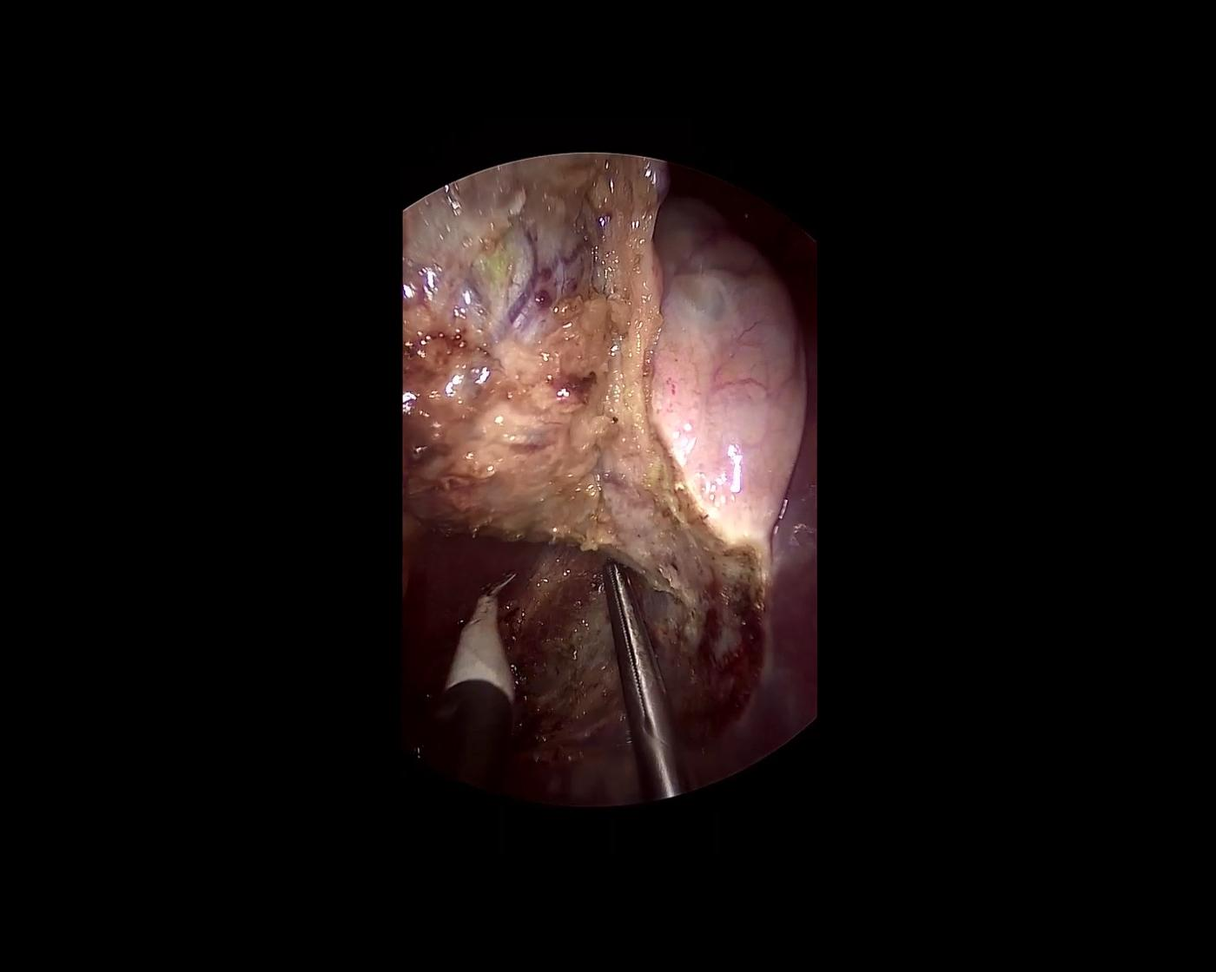Cautery: (427, 568, 518, 804)
Forceps: (592, 558, 682, 806)
Gallbladder: (403, 157, 805, 579)
Liver: (730, 404, 864, 781), (392, 533, 542, 785)
